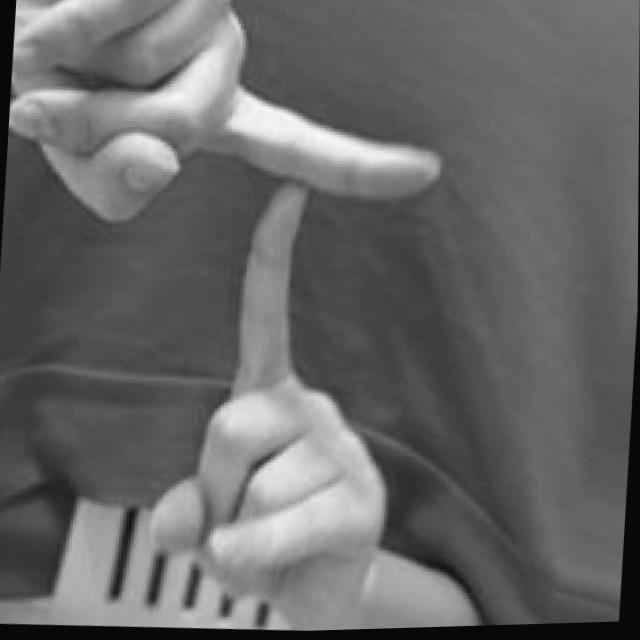T: (0, 0, 456, 640)
